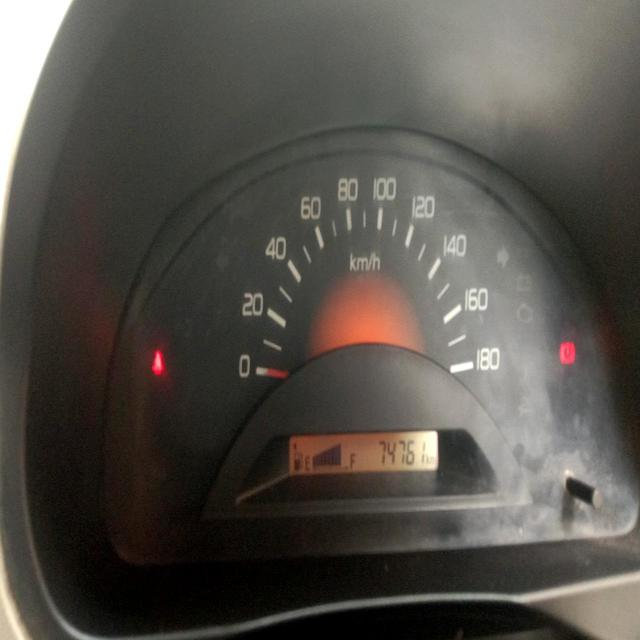odometer: (375, 436, 427, 468)
